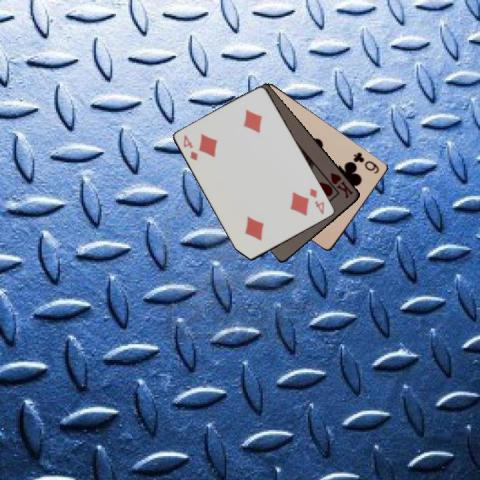4d: (307, 185, 326, 216), (181, 131, 199, 162)
6c: (350, 150, 380, 176)
Kh: (327, 169, 355, 200)
